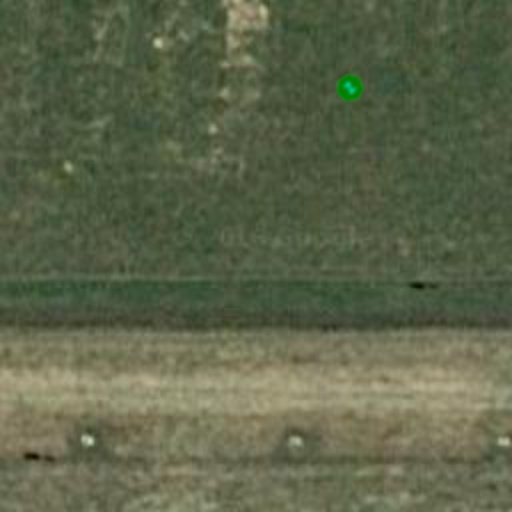heptagon: (328, 66, 372, 110)
